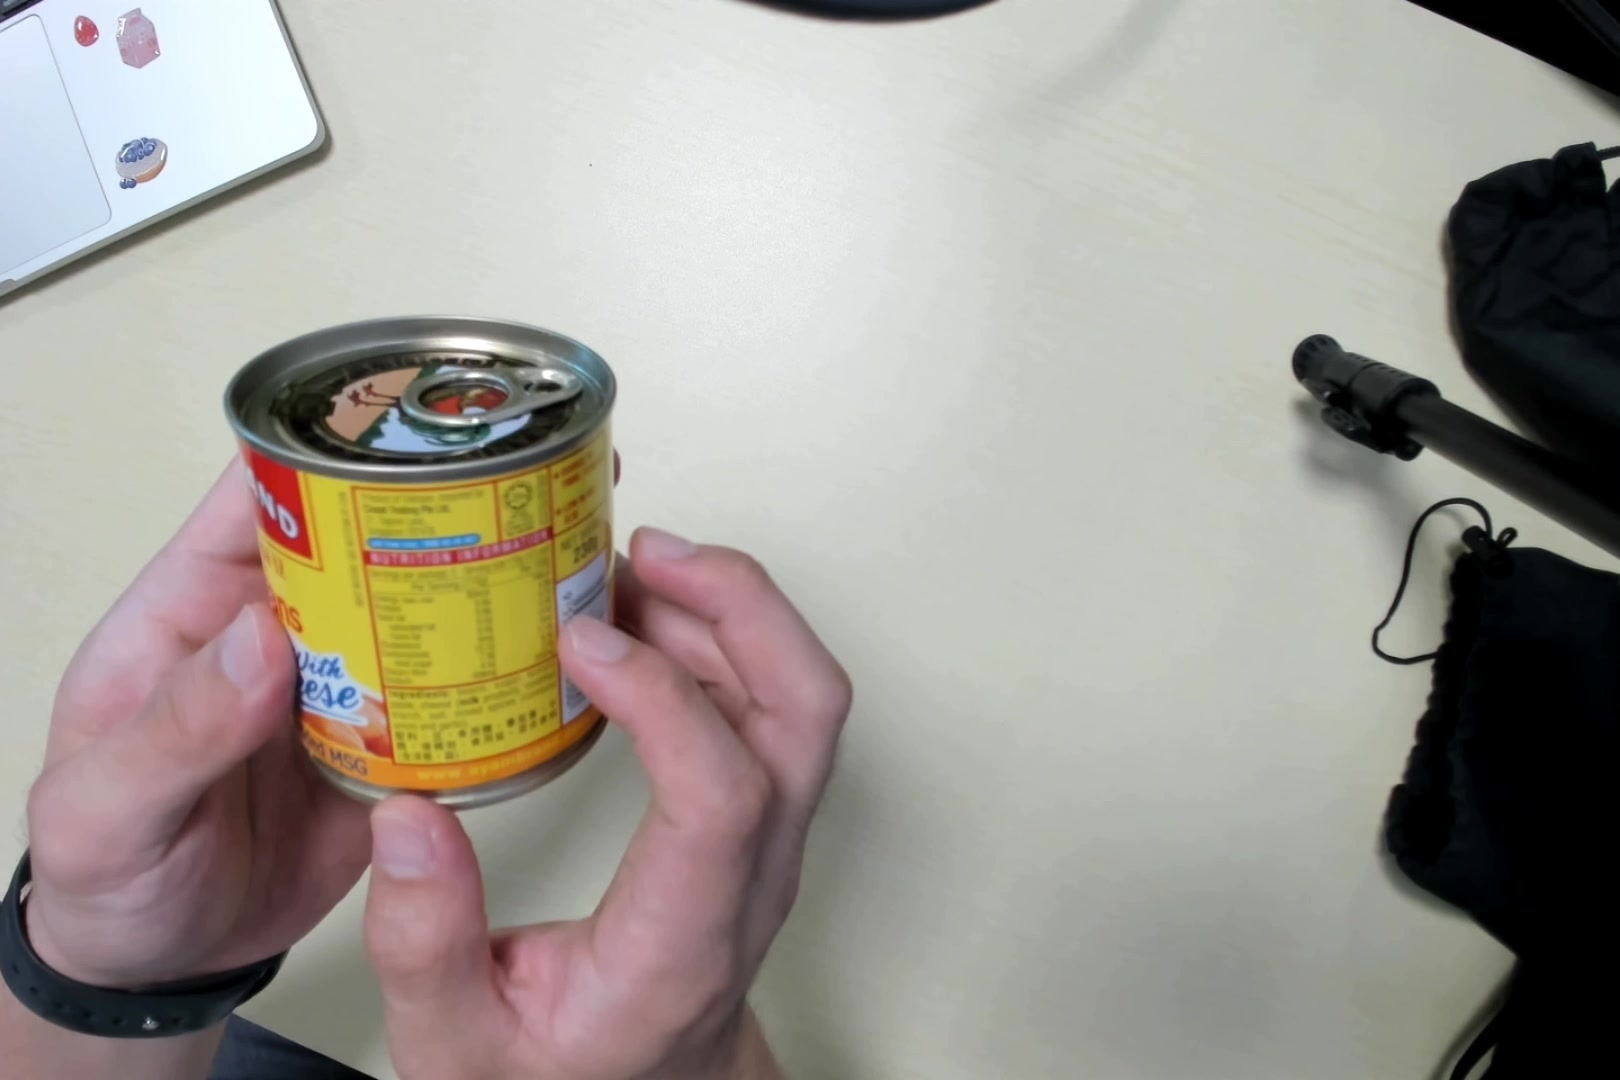CannedBakedBeans_200-299g_NonHalal_NonHealthy: (231, 328, 620, 804)
